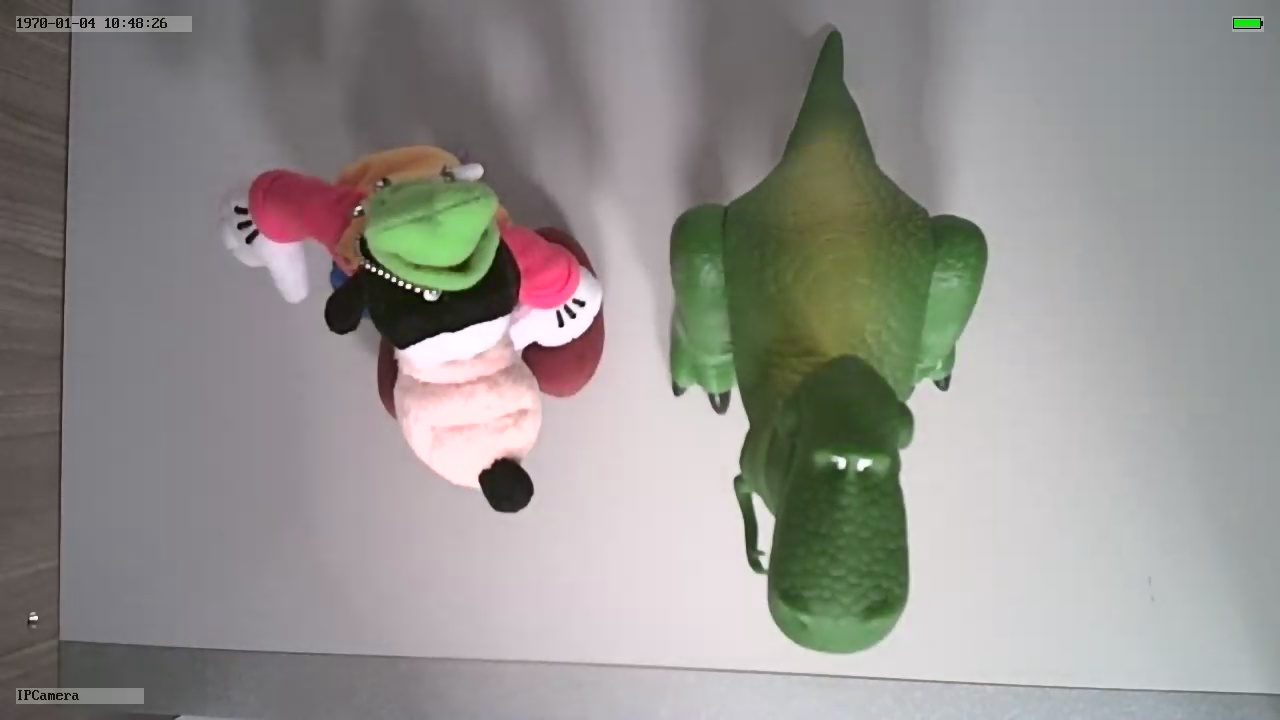goofy: (211, 141, 612, 516)
rex: (666, 116, 990, 656)
